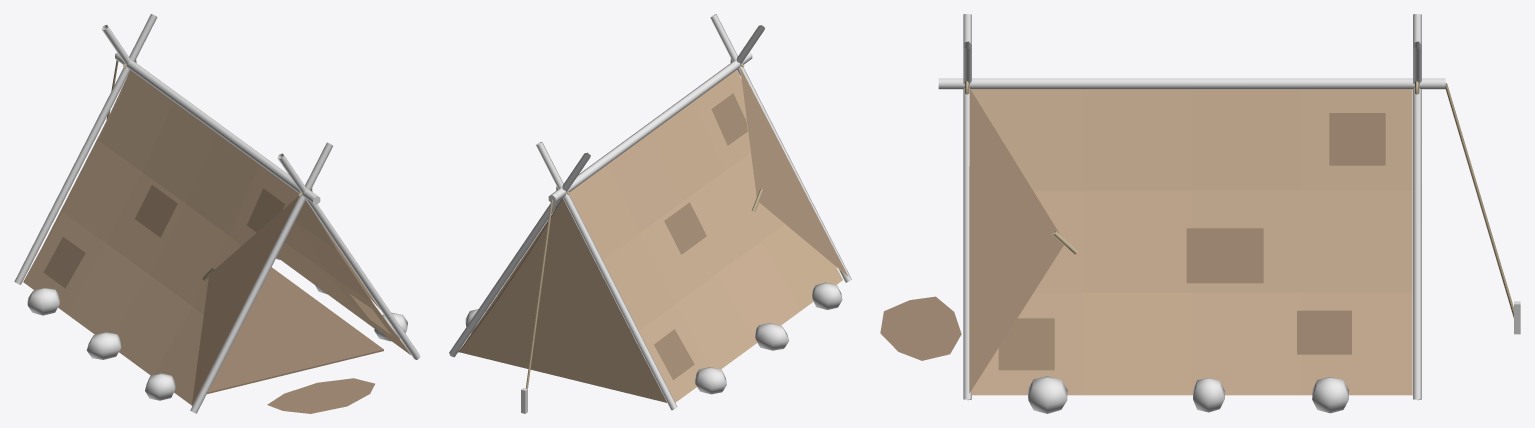
Rendered from tent.glb.
3 views of the same model, side by side, from view 1: azimuth 30°, elevation 25°; view 2: azimuth 150°, elevation 25°; view 3: azimuth 270°, elevation 25° (orthographic). The views are drawn at different scales.
Parts seen in each view (by area): view 1: tent; view 2: tent; view 3: tent.
Boxes of the visible parts, x1,y1,x2,y2 form: tent: [14, 14, 420, 413]; tent: [449, 14, 851, 413]; tent: [880, 14, 1520, 413].
Bounding box in the file's own units: 3.61 × 3.11 × 5.81.
